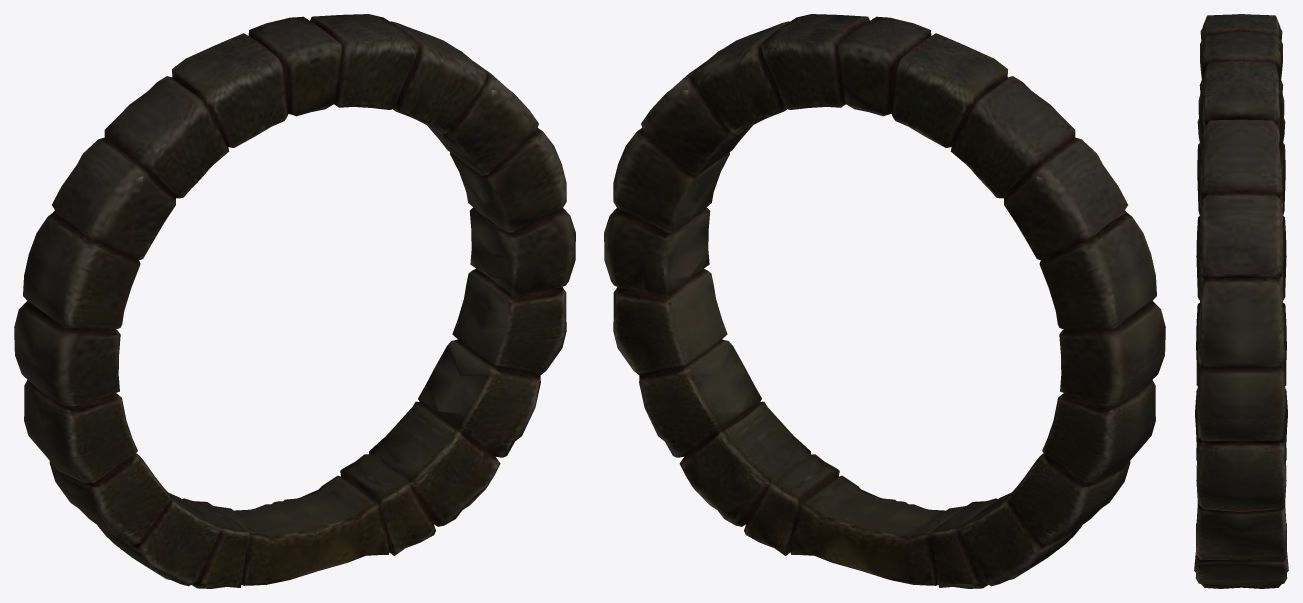
Rendered from Crawlspace_Pipe_Barrier.fbx.
3 views of the same model, side by side, from view 1: azimuth 30°, elevation 25°; view 2: azimuth 150°, elevation 25°; view 3: azimuth 270°, elevation 25° (orthographic). The views are drawn at different scales.
Parts seen in each view (by area): view 1: CrawlSpace_Pipe_Barrier; view 2: CrawlSpace_Pipe_Barrier; view 3: CrawlSpace_Pipe_Barrier.
Part boxes in pixels (bbox=[...]): CrawlSpace_Pipe_Barrier: bbox=[14, 14, 575, 588]; CrawlSpace_Pipe_Barrier: bbox=[604, 14, 1165, 588]; CrawlSpace_Pipe_Barrier: bbox=[1194, 14, 1288, 588].
Size of the model in its own units: 171 by 166 by 28.35.
Materials: 1 (1 with a texture image).
